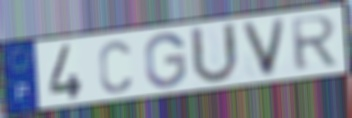4: (48, 42, 84, 101)
C: (97, 39, 134, 96)
G: (143, 31, 188, 90)
R: (288, 14, 340, 74)
U: (188, 21, 242, 87)
V: (238, 15, 290, 80)
